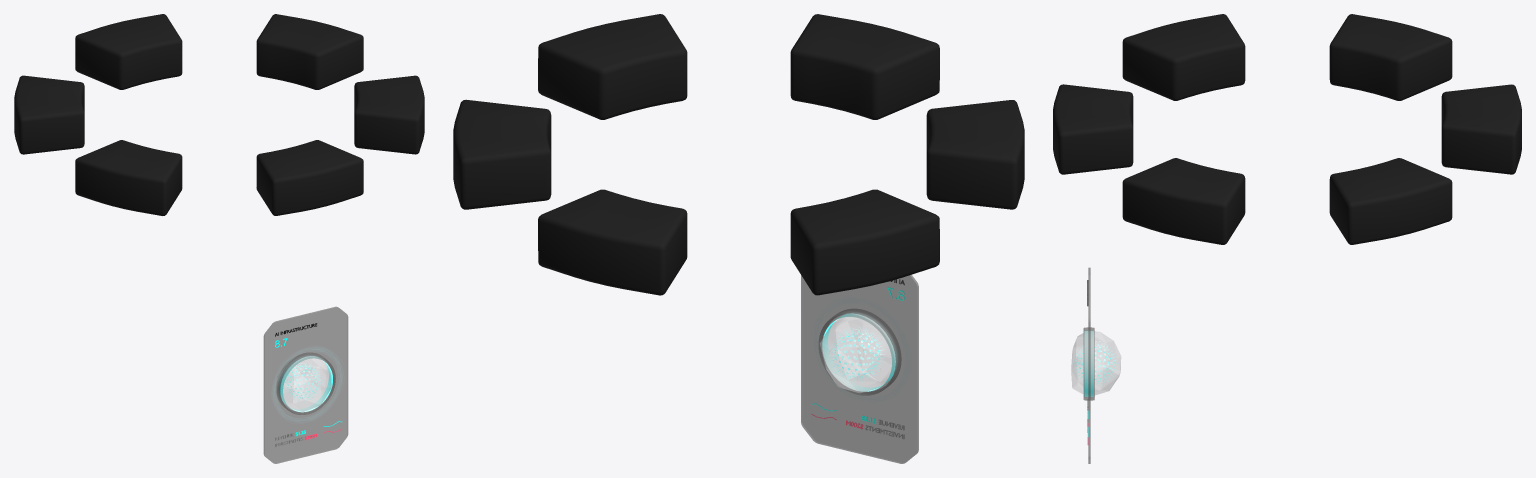
The picture shows the model from 3 angles, left to right: view 1: azimuth 30°, elevation 25°; view 2: azimuth 150°, elevation 25°; view 3: azimuth 270°, elevation 25°; orthographic projection. The views are drawn at different scales.
Parts seen in each view (by area): view 1: Cylinder, baseGreen, Glass, Corner, neon-corner; view 2: Cylinder, baseGreen, Glass, Corner, neon-corner, neon-sphere.001; view 3: Cylinder, Glass, Corner, neon-corner, baseCorner.
Boxes of the visible parts, bbox=[...] form: Cylinder: bbox=[14, 14, 424, 215]; baseGreen: bbox=[264, 307, 347, 463]; Glass: bbox=[283, 358, 331, 411]; Corner: bbox=[277, 353, 335, 414]; neon-corner: bbox=[279, 356, 332, 412]; Cylinder: bbox=[453, 14, 1024, 295]; baseGreen: bbox=[801, 275, 918, 463]; Glass: bbox=[820, 317, 891, 392]; Corner: bbox=[818, 309, 900, 395]; neon-corner: bbox=[822, 313, 896, 391]; neon-sphere.001: bbox=[829, 327, 885, 382]; Cylinder: bbox=[1053, 14, 1521, 244]; Glass: bbox=[1071, 331, 1120, 395]; Corner: bbox=[1083, 327, 1094, 400]; neon-corner: bbox=[1084, 331, 1093, 396]; baseCorner: bbox=[1088, 267, 1090, 463].
Size of the model in its own units: 6.03 by 4.97 by 6.23.
